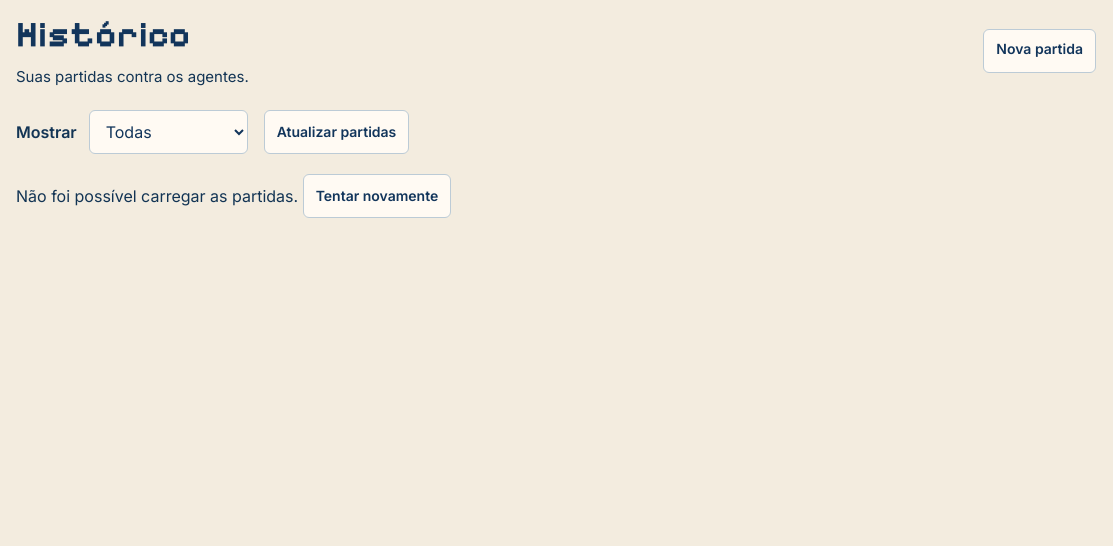
Scenario: erro inicial oferece retry e recupera a lista
The image size is (1113, 546).
Expected: the message "Não foi possível carregar as partidas. Tentar novamente" is shown, [16,174,451,218]
Click the button "Tentar novamente" at (377, 196), box [303,174,451,218]
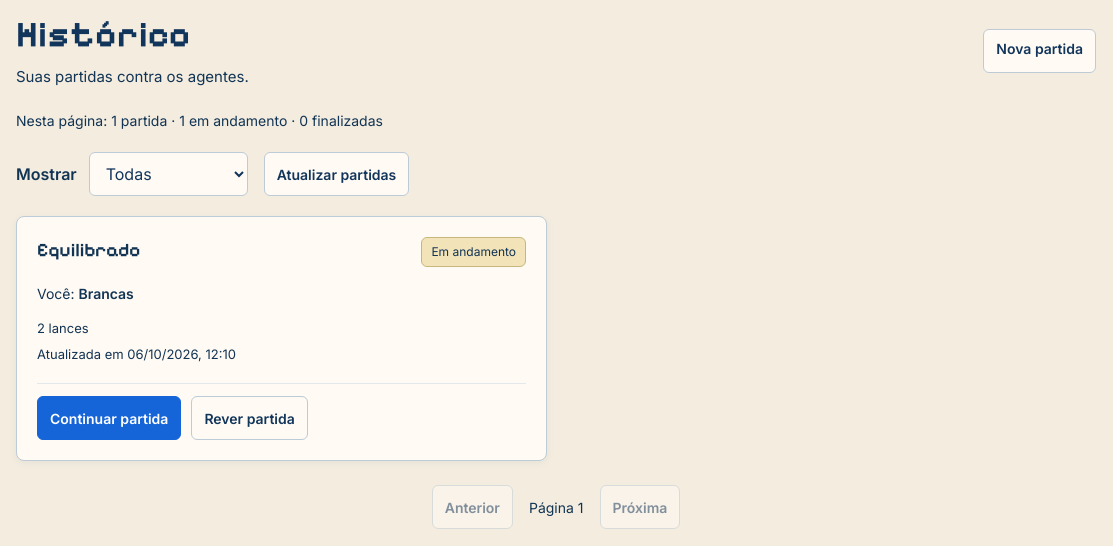
Now the heading "Equilibrado" is shown, box [37,239,140,261]
Now the message "Não foi possível carregar as partidas. Tentar novamente" is gone
